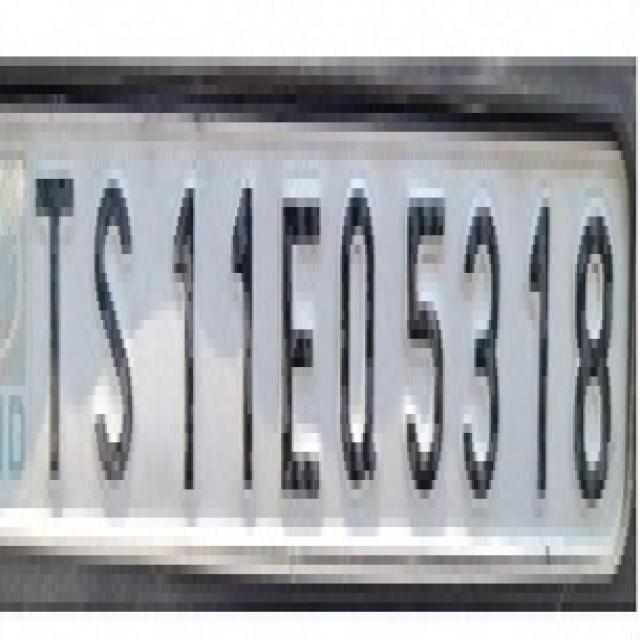1: (223, 137, 268, 519), (170, 126, 200, 530), (526, 172, 557, 540)
3: (459, 172, 504, 534)
5: (398, 172, 453, 512)
8: (570, 160, 618, 544)
E: (274, 152, 334, 516)
Q: (334, 163, 386, 517)
S: (84, 160, 142, 496)
T: (31, 138, 77, 532)
